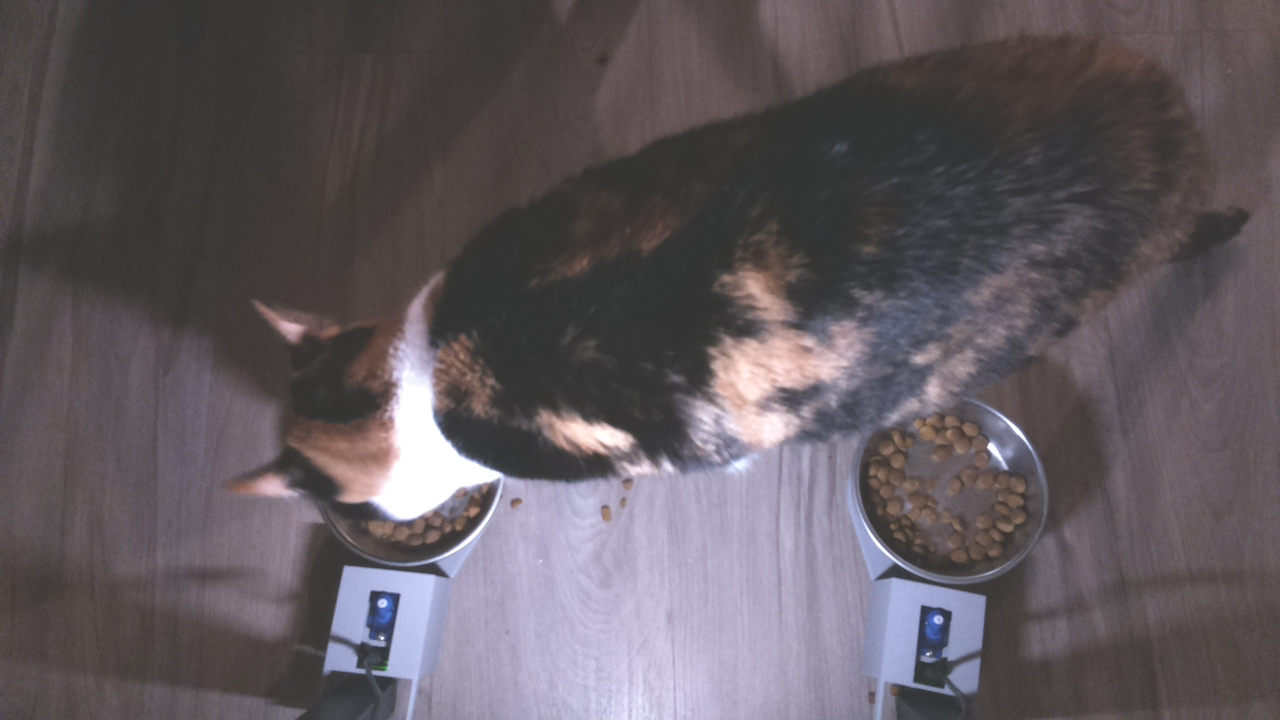bella_eating: (221, 261, 522, 566)
open_bowl: (849, 393, 1054, 586)
